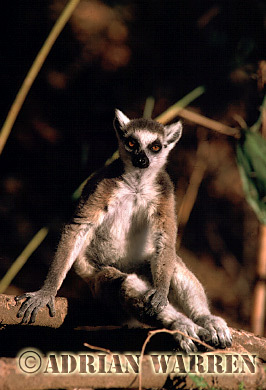cat: (12, 103, 234, 353)
